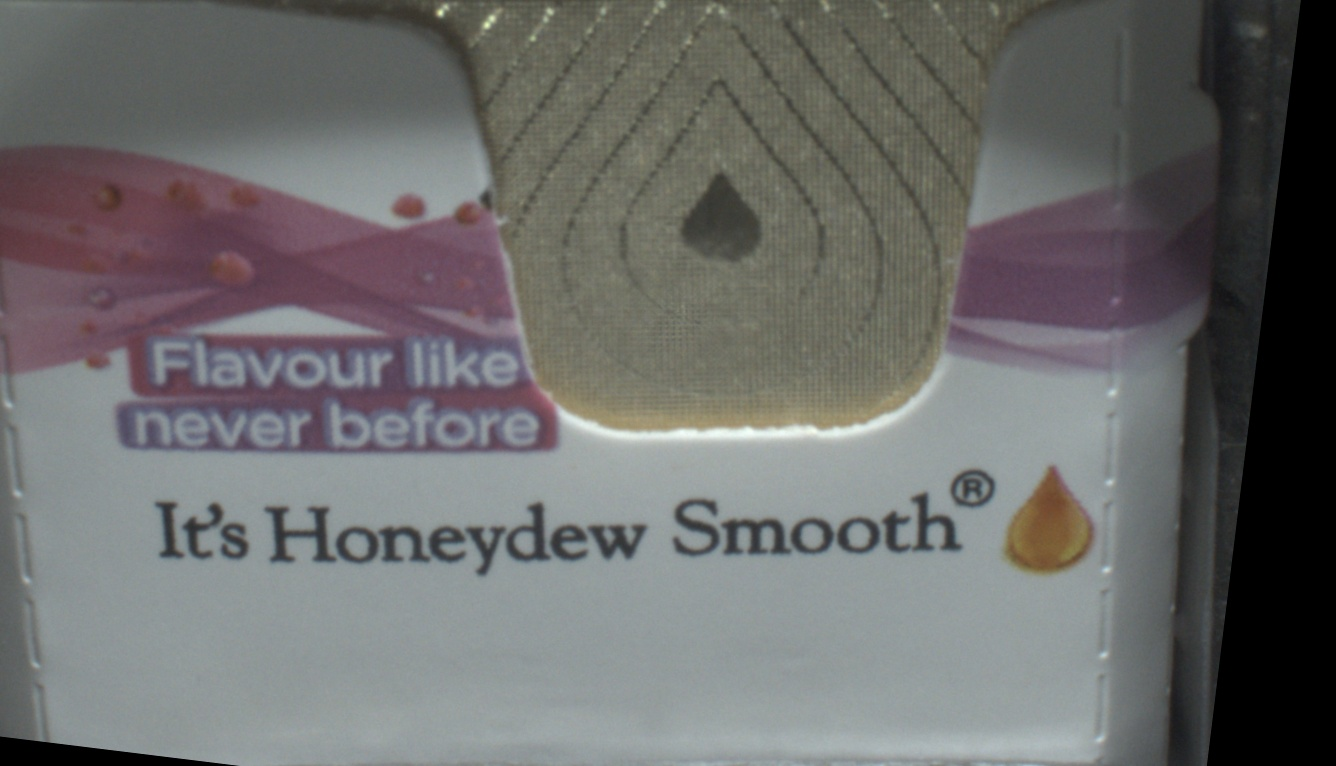dd: (659, 315, 895, 525), (235, 218, 412, 357)
